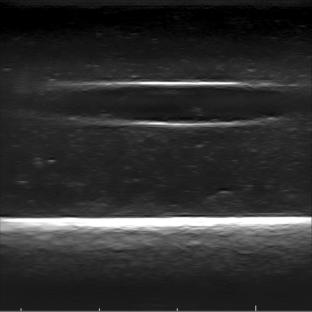vessel: (80, 79, 278, 130)
